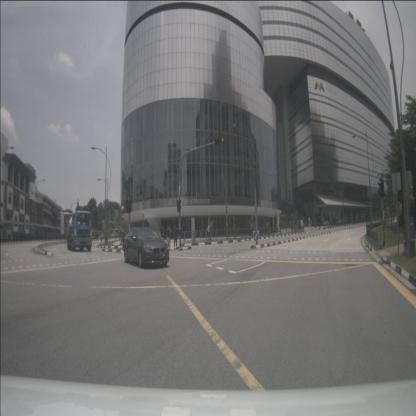human-pedestrian-adult: (173, 224, 179, 250), (166, 226, 171, 251), (167, 226, 172, 247), (160, 226, 164, 247), (207, 222, 211, 240), (285, 222, 288, 231)
vehicle-car: (124, 227, 169, 268), (109, 228, 120, 238), (296, 220, 304, 229)
vehicle-truck: (67, 211, 92, 252)
